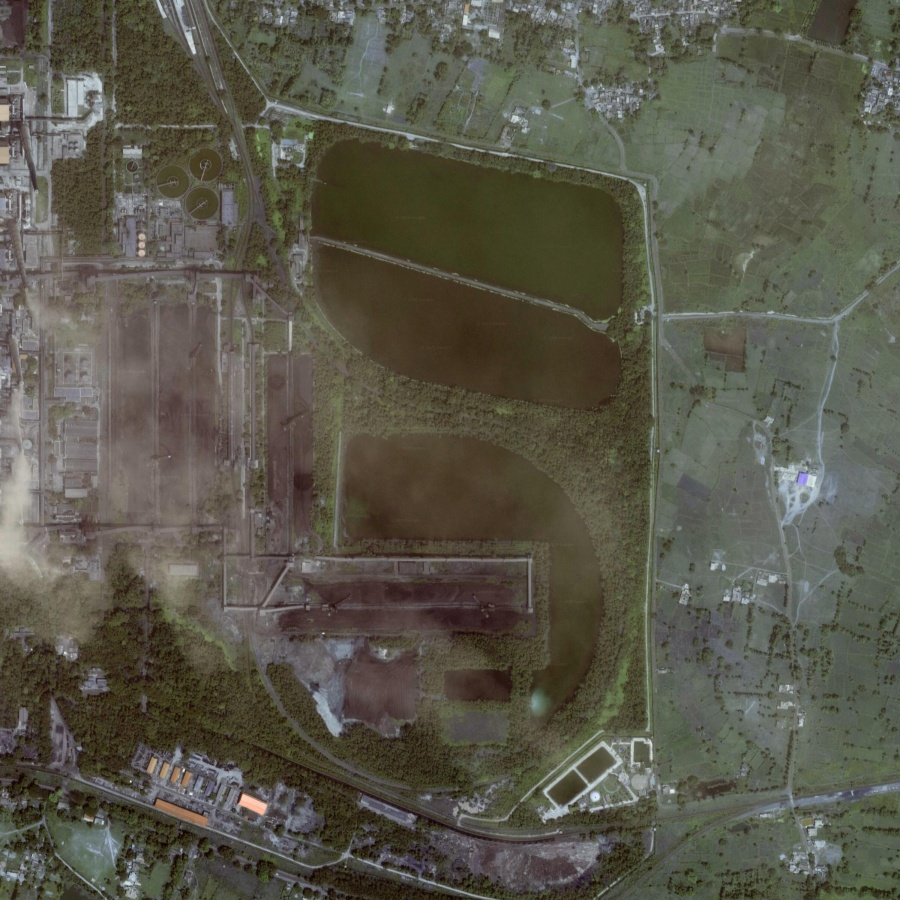PowerPlant: (259, 556, 543, 742)
